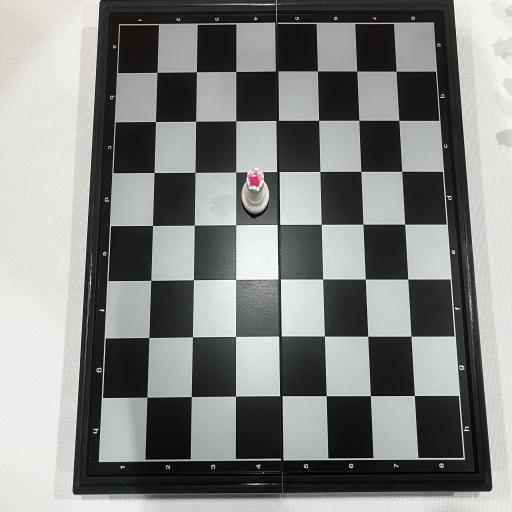White rook: (241, 167, 269, 213)
